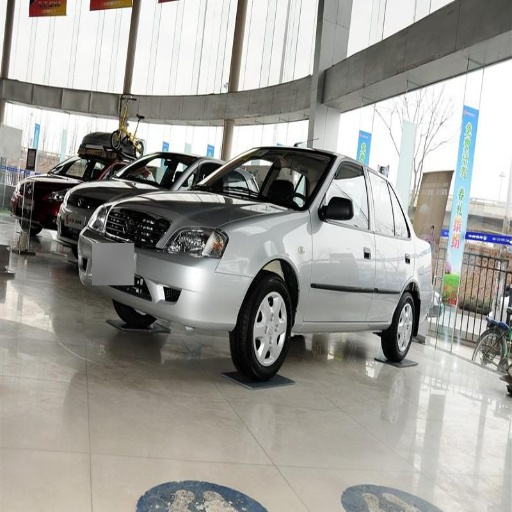front_bumper: (77, 202, 252, 325)
front_glass: (185, 149, 331, 207)
front_left_door: (308, 160, 375, 319)
front_left_light: (164, 226, 228, 262)
